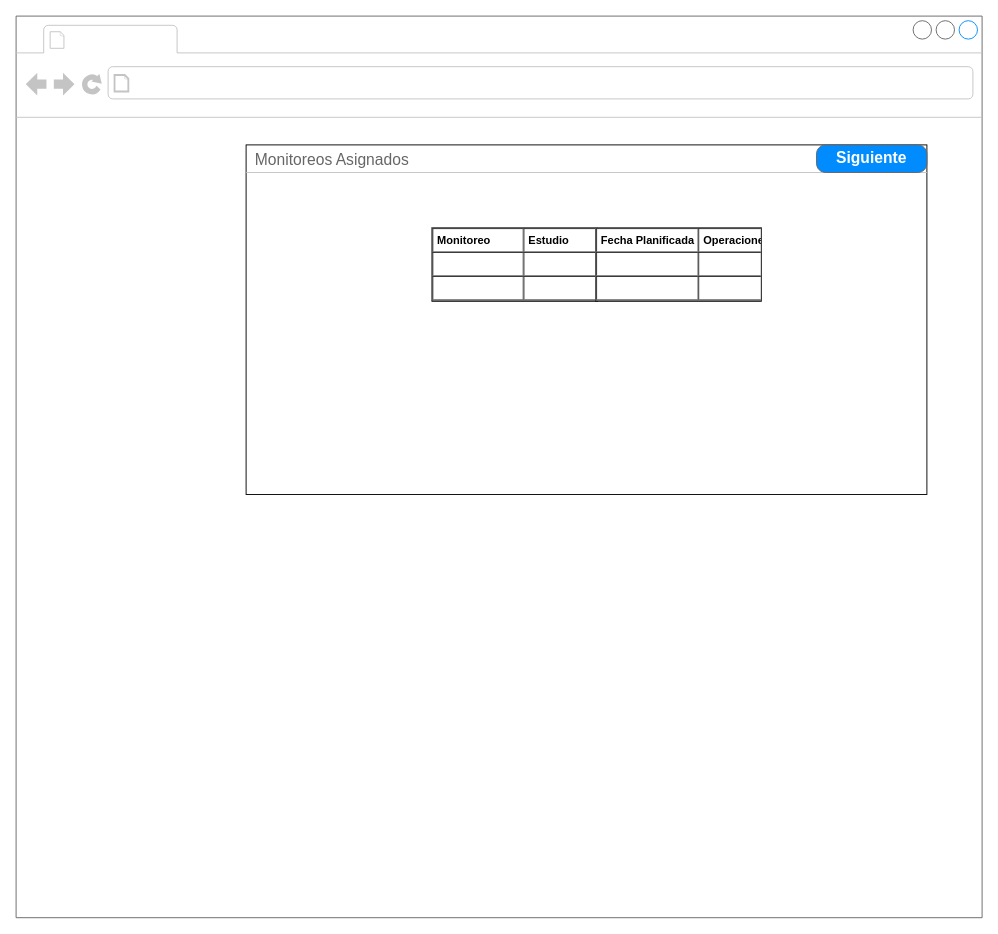
The diagram is 998 pixels wide and 934 high, and some of its shapes have lost their labels. The shapes that lost their labels are listed below. From the top down, each one's centre as x and y in pixels, then its label:
At (x=121, y=38): "Alertas".
At (x=250, y=82): "alertas-tempranas".
